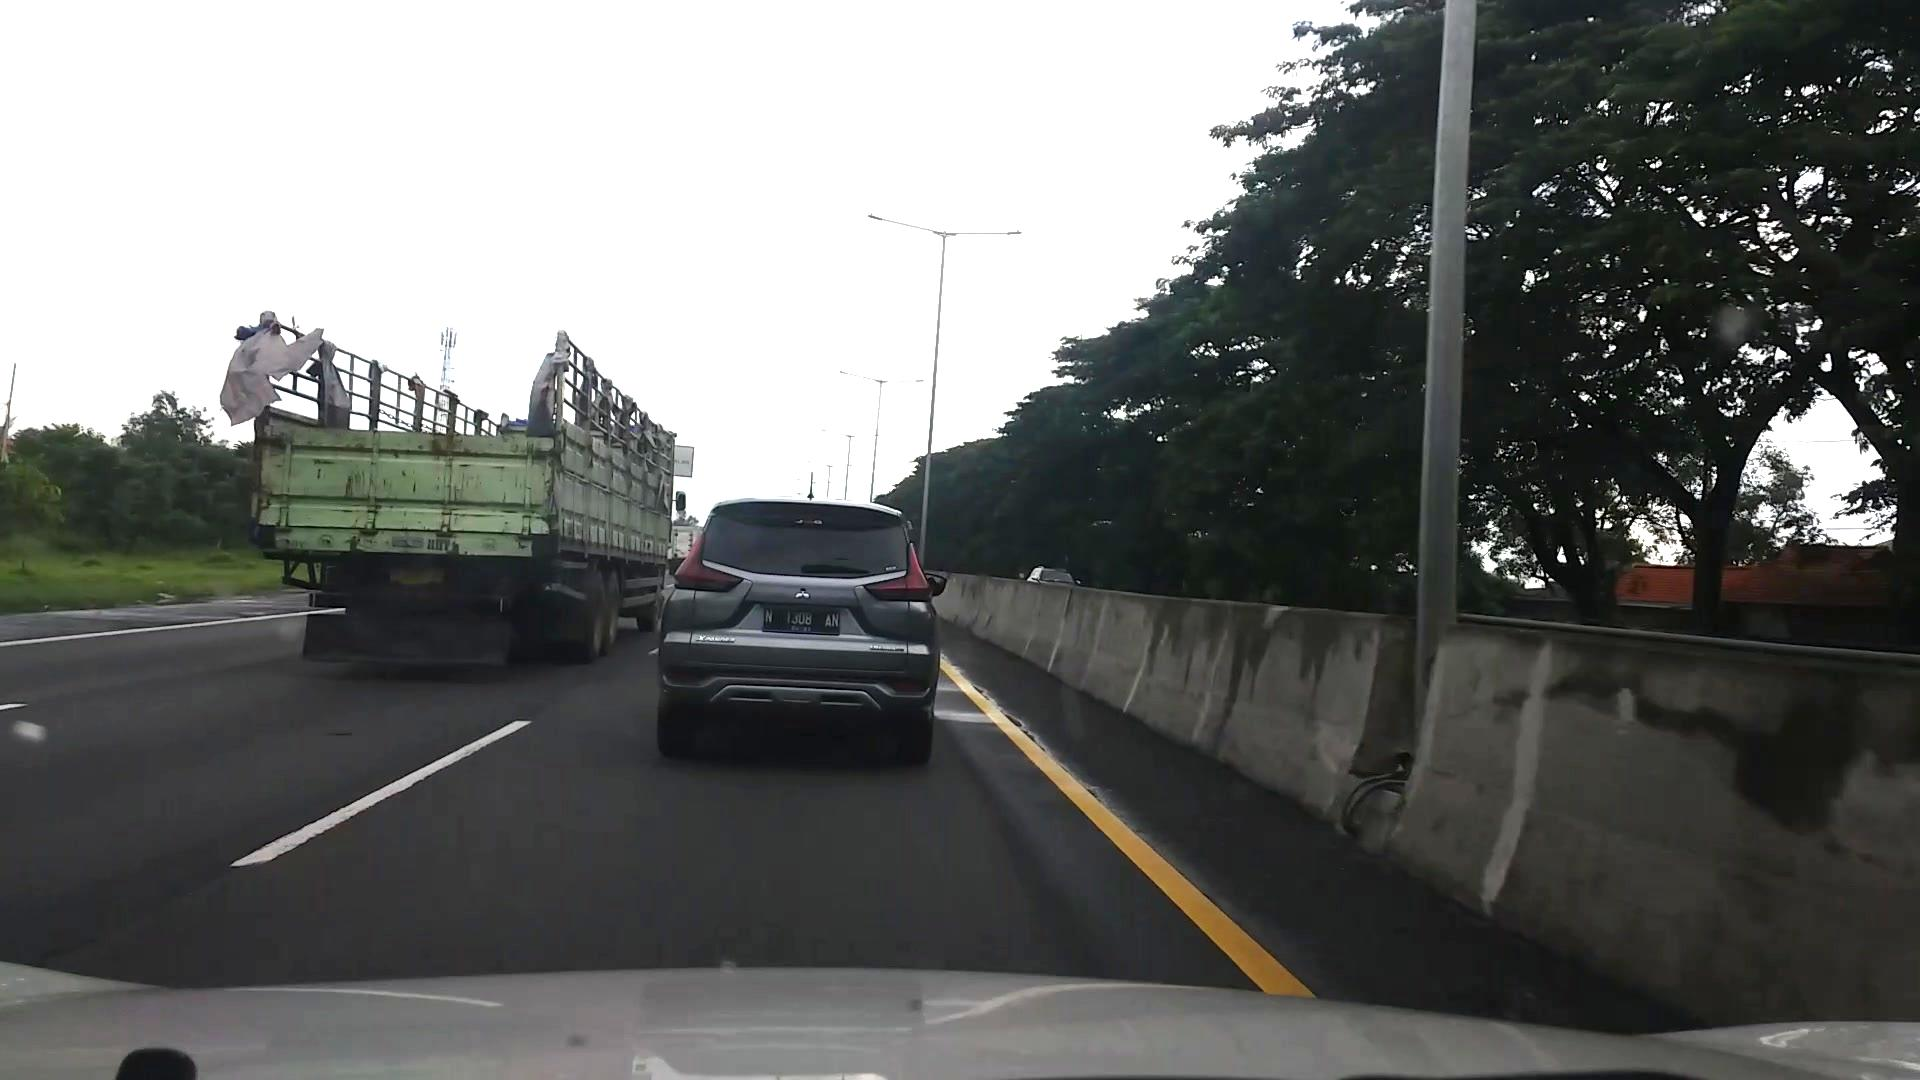plate_positive: (764, 605, 840, 636)
